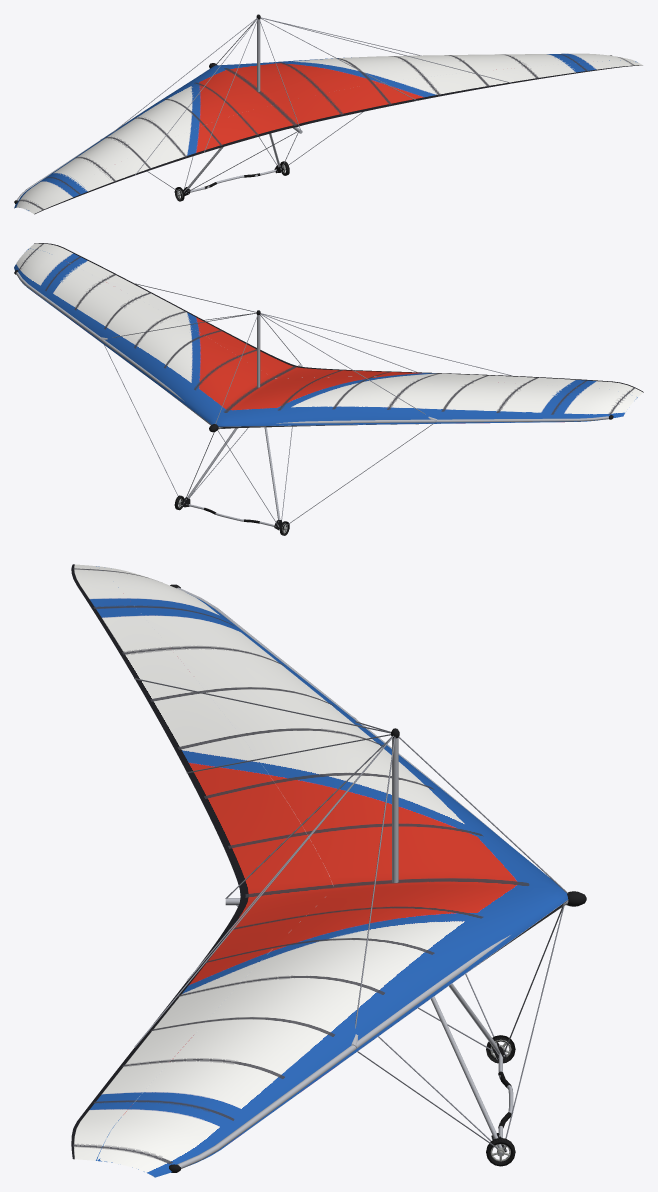
The model's file is glider_fs_space.glb.
3 views of the same model, one above another, from view 1: azimuth 30°, elevation 25°; view 2: azimuth 150°, elevation 25°; view 3: azimuth 270°, elevation 25° (orthographic). The views are drawn at different scales.
Parts seen in each view (by area): view 1: Sail, Frame, ControlFrame; view 2: Sail, Frame, ControlFrame; view 3: Sail, Frame, ControlFrame.
Boxes of the visible parts, x1=… form: Sail: x1=14, y1=53, x2=642, y2=214; Frame: x1=14, y1=14, x2=611, y2=203; ControlFrame: x1=147, y1=111, x2=363, y2=201; Sail: x1=14, y1=243, x2=643, y2=429; Frame: x1=14, y1=270, x2=613, y2=432; ControlFrame: x1=104, y1=345, x2=432, y2=535; Sail: x1=71, y1=564, x2=568, y2=1177; Frame: x1=134, y1=584, x2=586, y2=1172; ControlFrame: x1=236, y1=905, x2=564, y2=1166.
Bounding box in the file's own units: 9.5 × 2.87 × 3.48.
10 materials, 2 textured.
